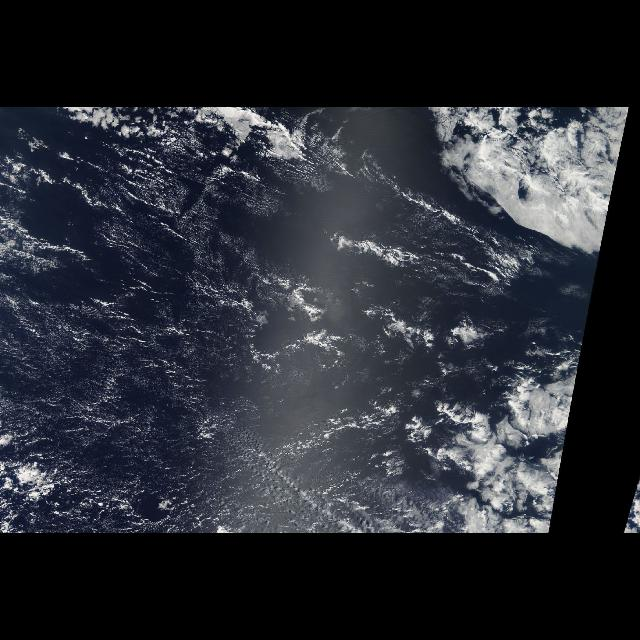Sugar: (5, 182, 286, 508)
